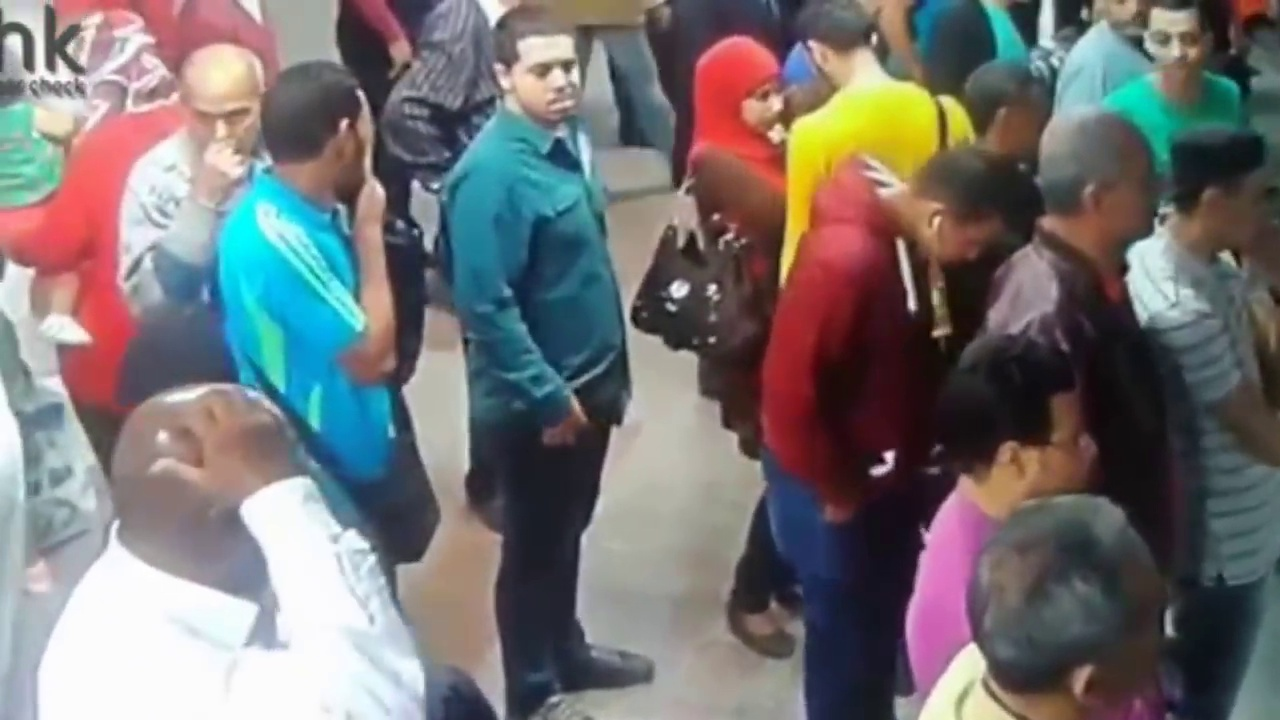face: (1043, 394, 1094, 492), (515, 44, 582, 115), (193, 77, 245, 165), (1150, 8, 1202, 81), (1228, 174, 1272, 253), (744, 81, 794, 130)
